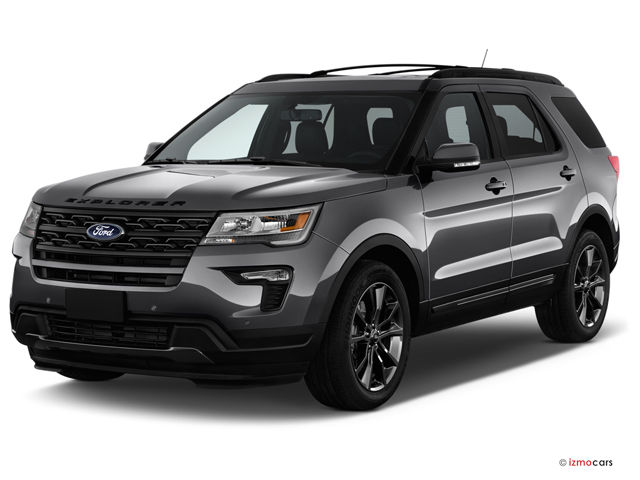Ford Explorer: (7, 61, 626, 413)
